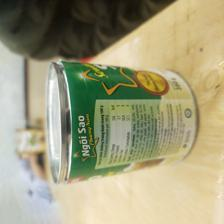NSPN_Lon: (45, 60, 200, 185)
